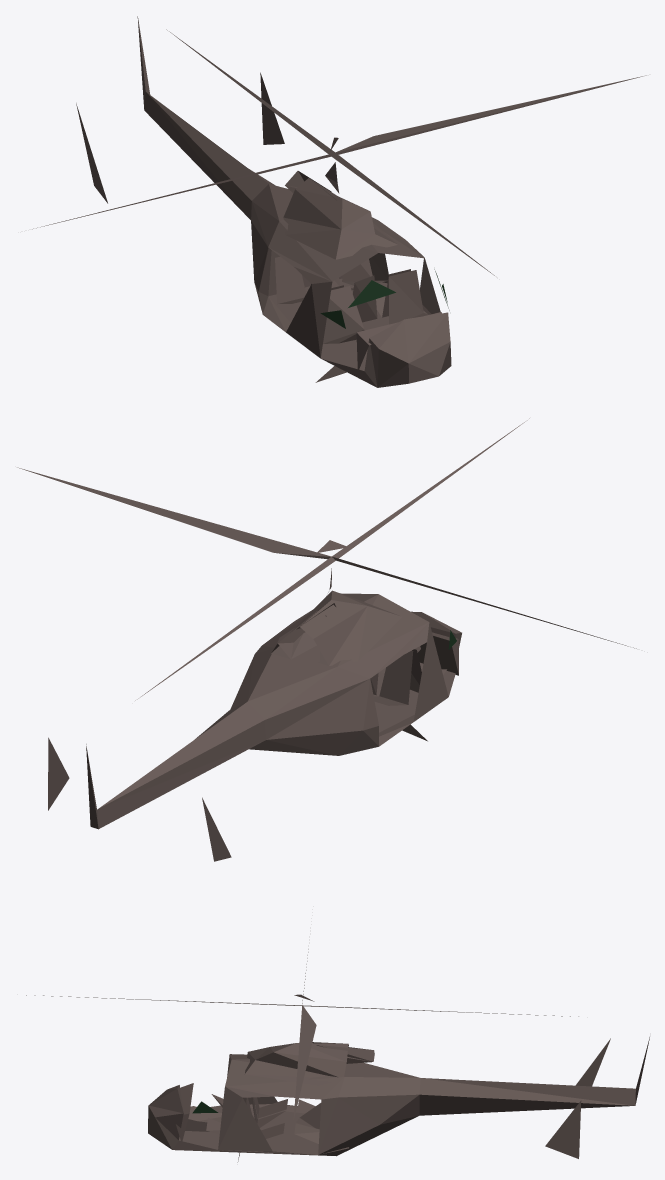
The model's file is heli-ambulance.lod2.glb.
3 views of the same model, one above another, from view 1: azimuth 30°, elevation 25°; view 2: azimuth 150°, elevation 25°; view 3: azimuth 270°, elevation 25° (orthographic). The views are drawn at different scales.
Parts seen in each view (by area): view 1: Object_6; view 2: Object_6; view 3: Object_6.
Boxes of the visible parts, <box> form: Object_6: <box>32,16,646,387</box>; Object_6: <box>17,418,636,861</box>; Object_6: <box>26,949,649,1162</box>.
Bounding box in the file's own units: 11.35 × 3.56 × 12.48.
